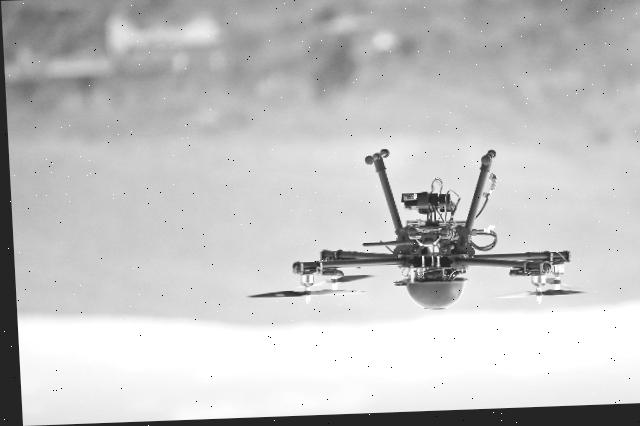drone: (222, 134, 594, 349)
